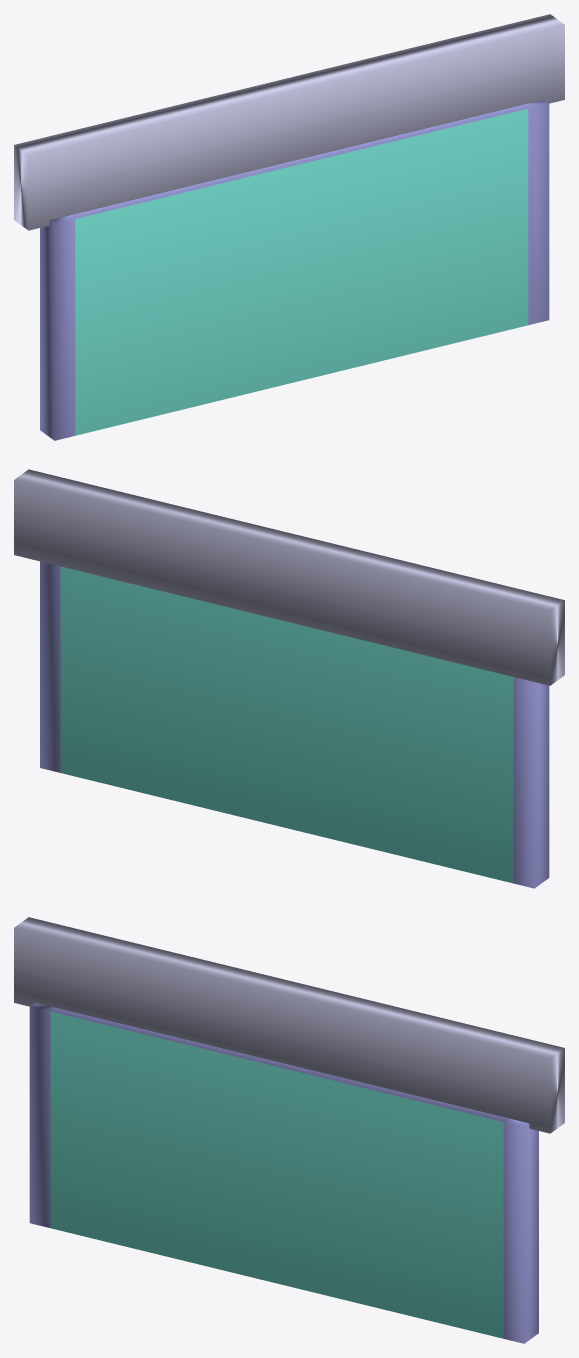
File: Building_A_9.fbx
3 views of the same model, one above another, from view 1: azimuth 30°, elevation 25°; view 2: azimuth 150°, elevation 25°; view 3: azimuth 330°, elevation 25° (orthographic).
Parts seen in each view (by area): view 1: Building_A_9; view 2: Building_A_9; view 3: Building_A_9.
Boxes of the visible parts, x1,y1,x2,y2 form: Building_A_9: [14, 14, 564, 440]; Building_A_9: [14, 469, 564, 888]; Building_A_9: [14, 917, 564, 1343].
Size of the model in its own units: 497 by 254 by 31.67.
